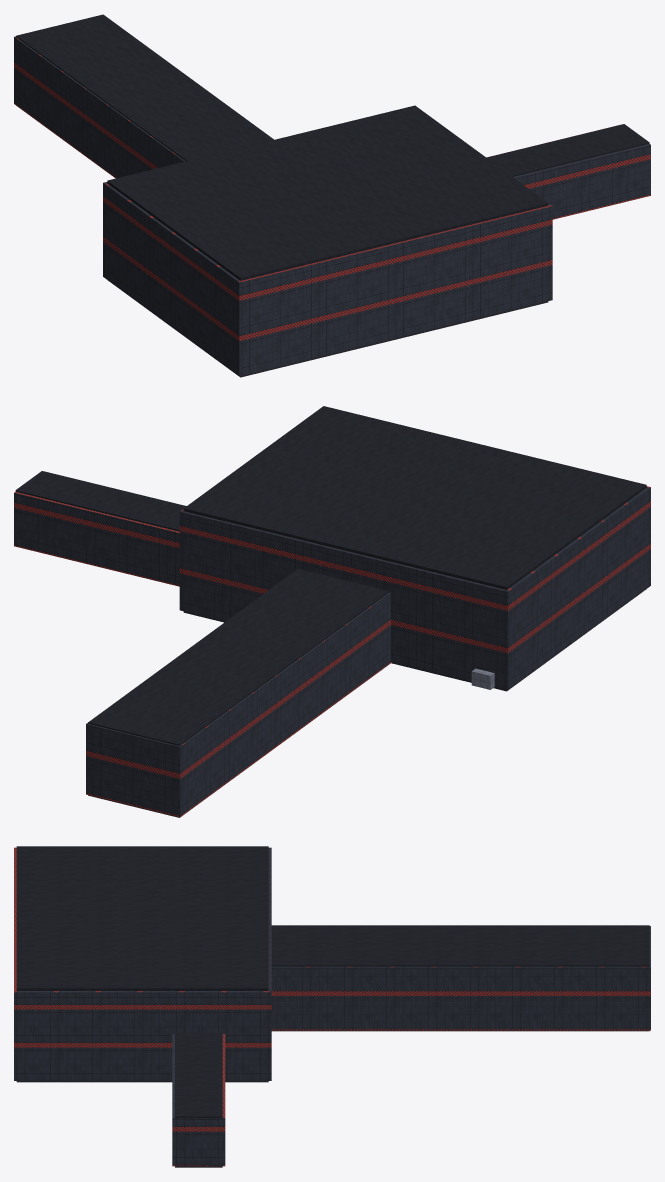
The model's file is facility.glb.
3 views of the same model, one above another, from view 1: azimuth 30°, elevation 25°; view 2: azimuth 150°, elevation 25°; view 3: azimuth 270°, elevation 25° (orthographic). The views are drawn at different scales.
Parts seen in each view (by area): view 1: Facility; view 2: Facility; view 3: Facility.
Part boxes in pixels (left/top/right/bottom): Facility: left=14, top=14, right=650, bottom=377; Facility: left=14, top=406, right=650, bottom=817; Facility: left=14, top=846, right=650, bottom=1167.
Bounding box in the file's own units: 38.6 × 7.4 × 45.5.
Materials: 13 (13 with a texture image).
